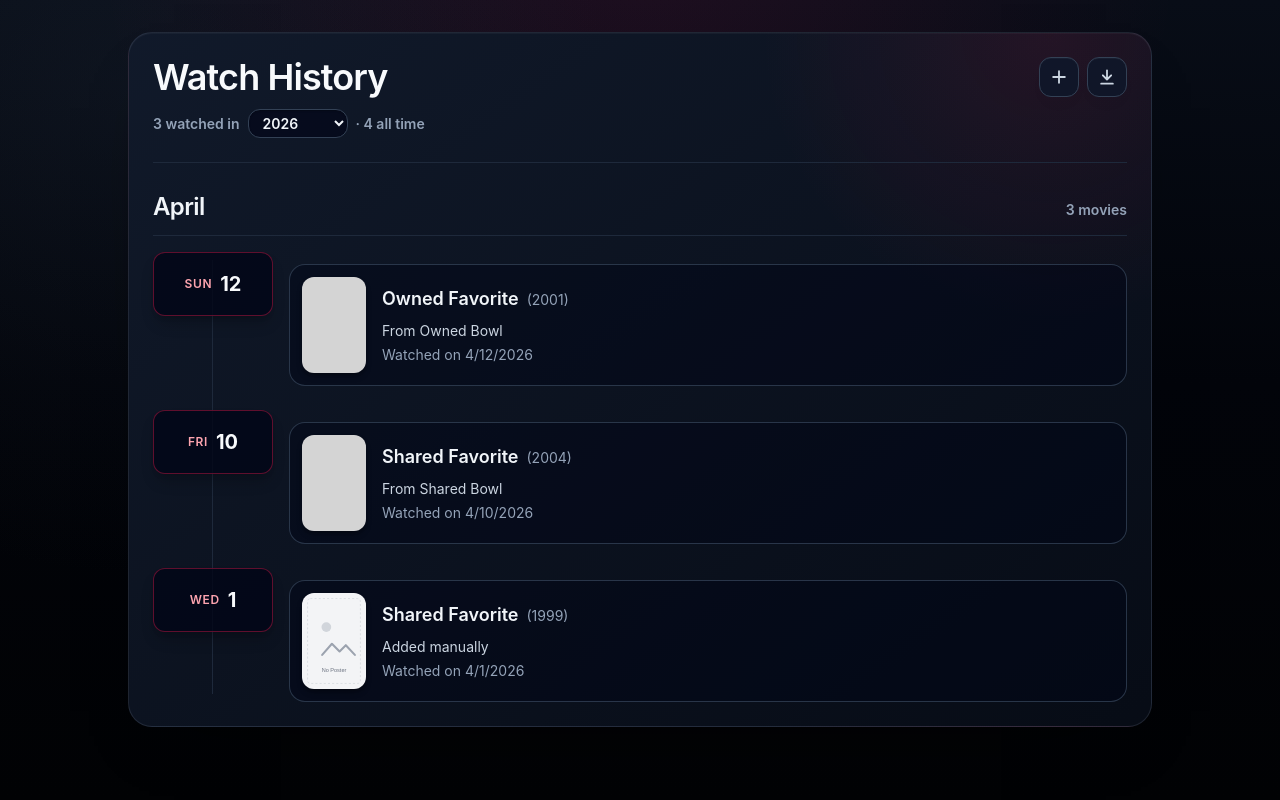
it: WatchListPage › defaults to the latest watched year and offers only years with history
expect the text "Older Favorite" is not shown: met
Select "2024" in the dropdown named "year watched": (298, 124) [248,109,348,138]
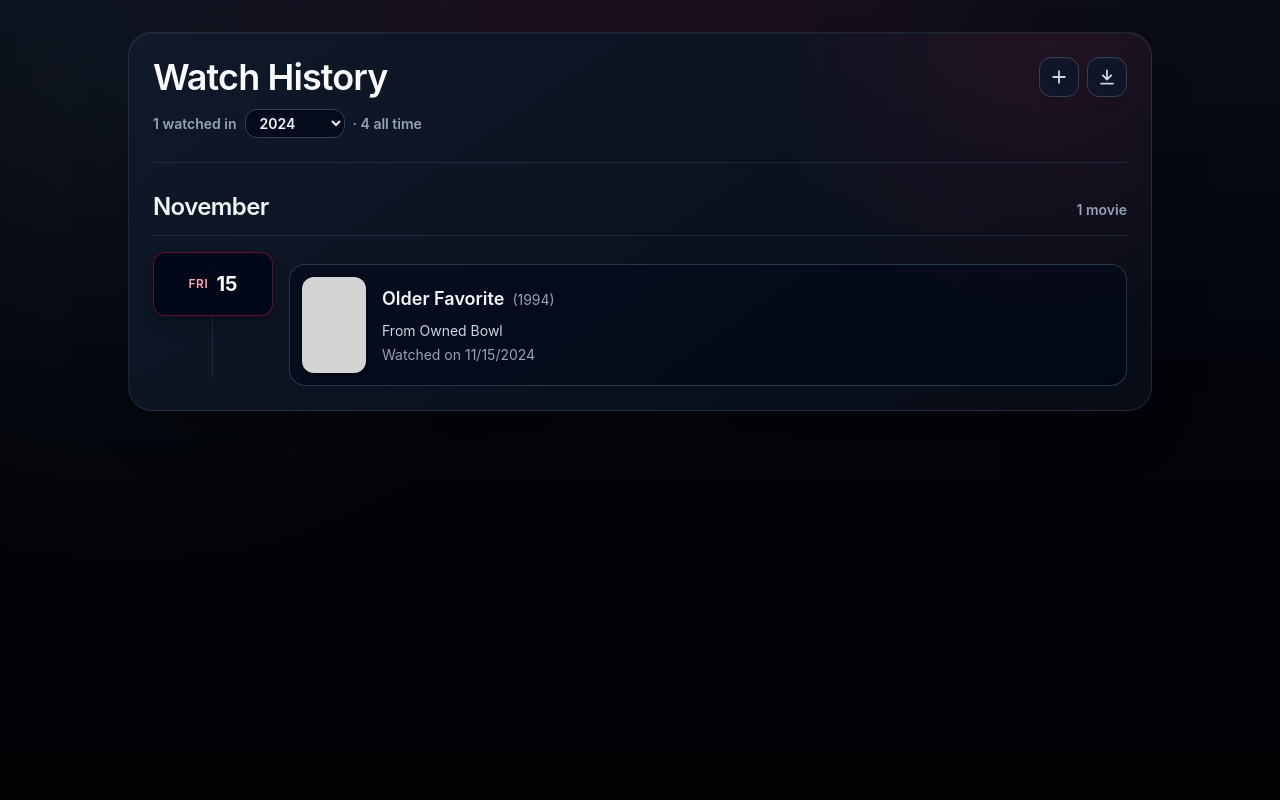
expect the text "1 watched in" is shown: met, box [153,114,236,134]
expect the heading "Older Favorite" is shown: met, box [382,285,504,313]
expect the button "Owned Favorite" is gone: met
